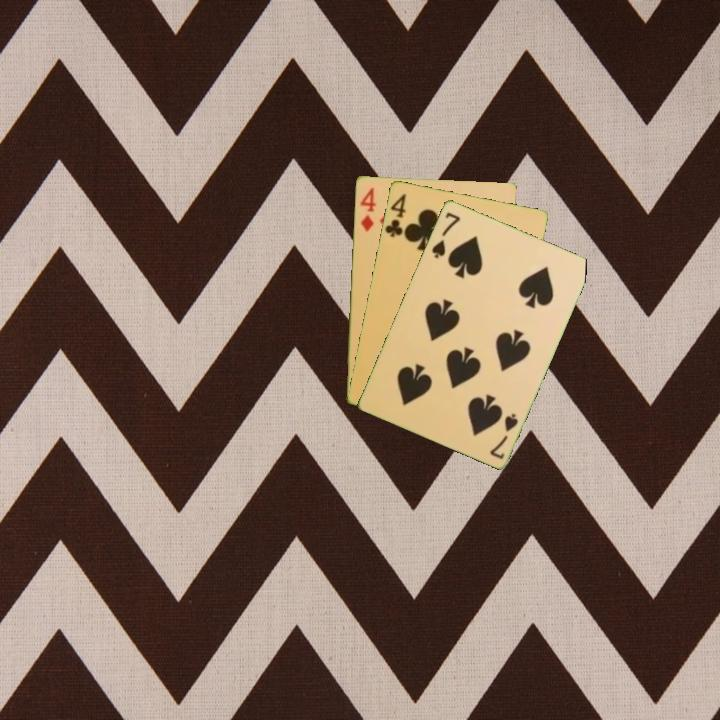4c: (381, 190, 409, 240)
4d: (356, 183, 379, 234)
7s: (428, 208, 463, 261), (486, 409, 521, 462)
